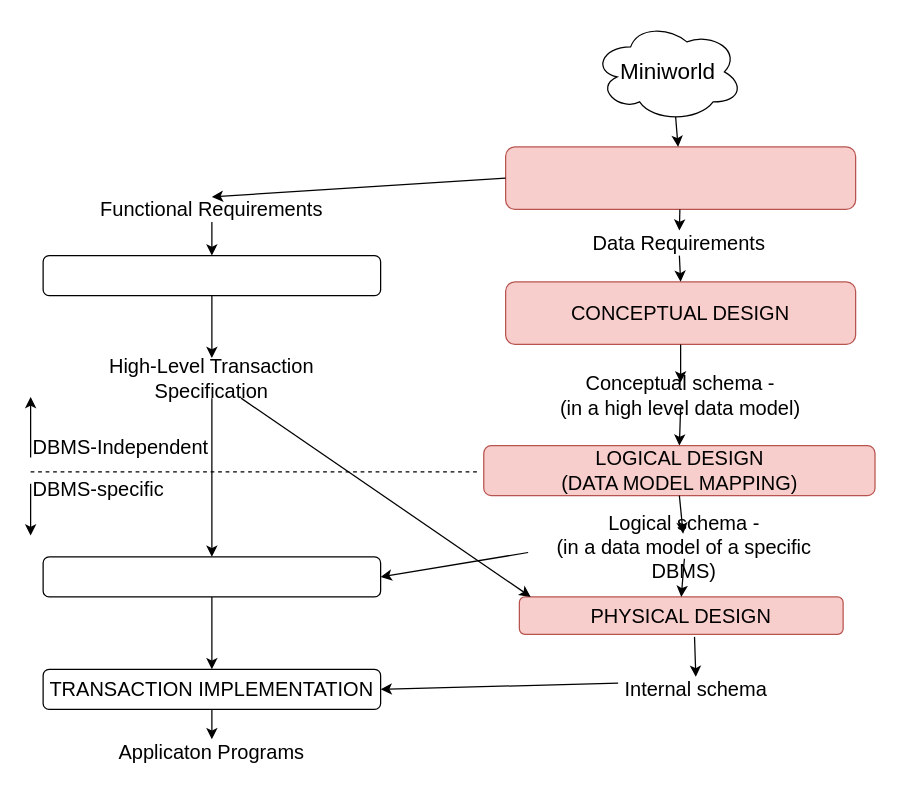
Image size: 898x786. Some labels were removed from this diagram. Here are the shapes that lost their labels. From the top down, the centre of each, then its label:
At (680,177): "REQUIREMENTS COLLECTION AND ANALYSIS".
At (211,275): "FUNCTIONAL ANALYSIS".
At (211,576): "APPLICATION PROGRAM DESIGN".
